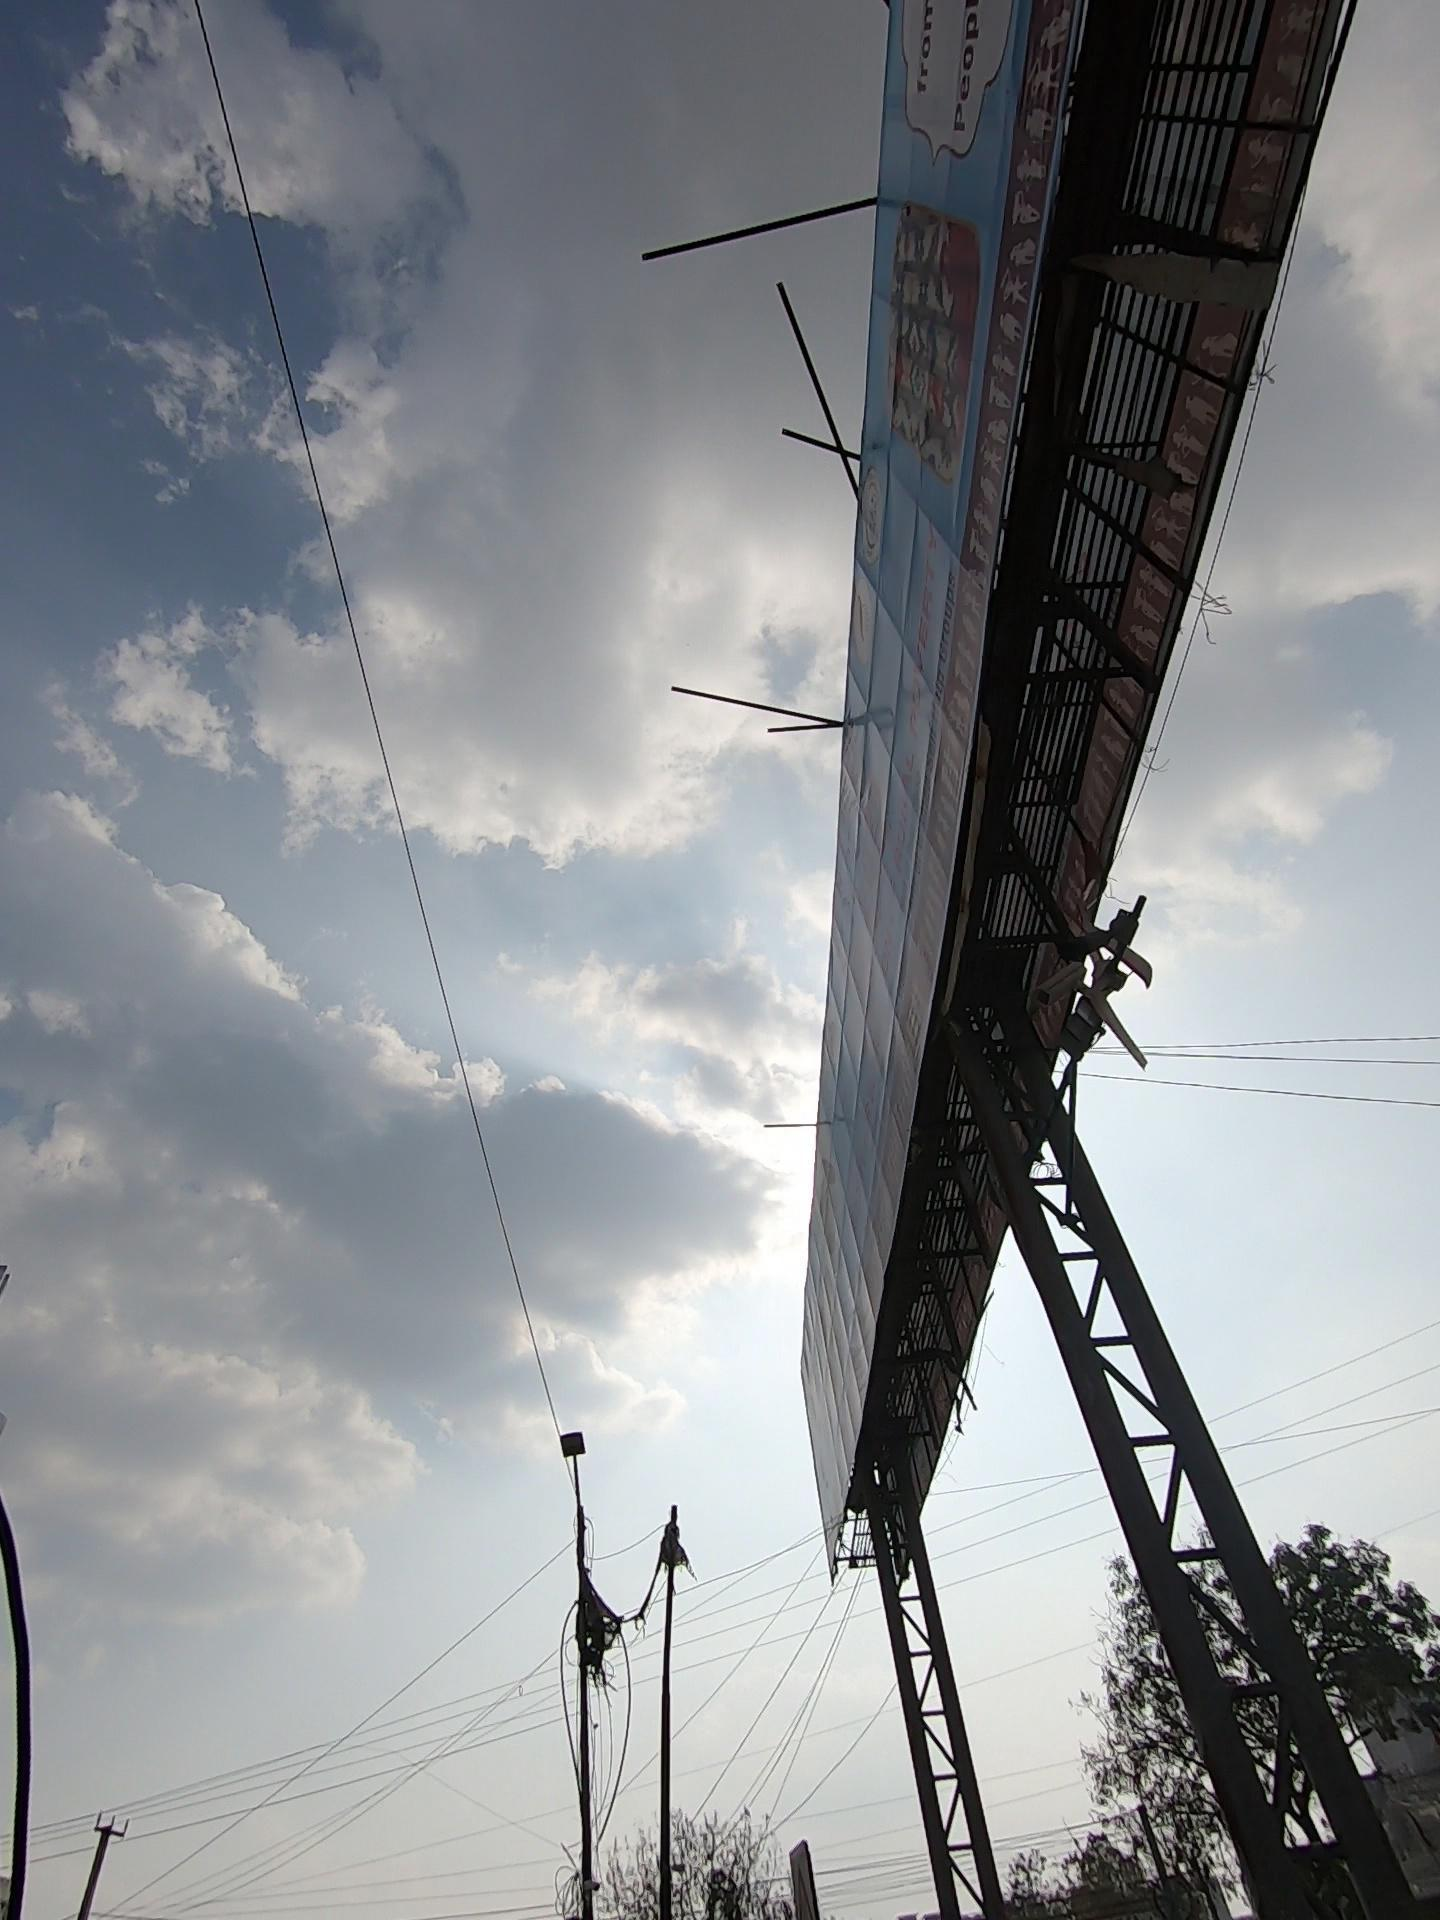off: (495, 1367, 776, 1663)
